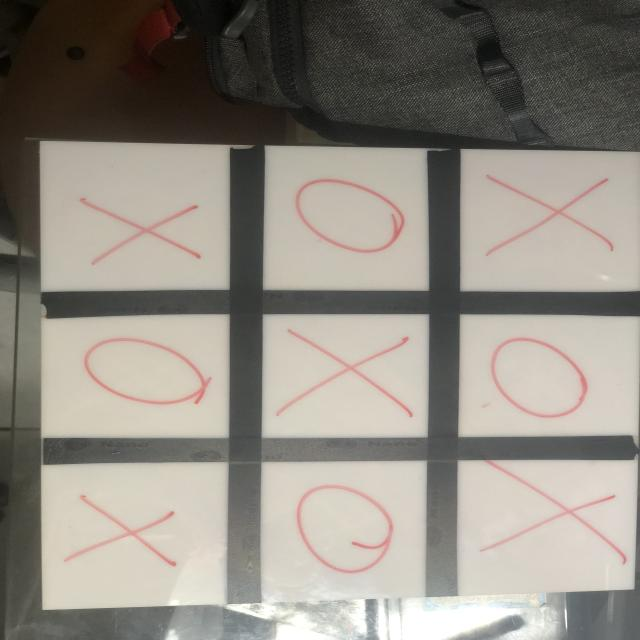o: (296, 481, 399, 579), (287, 174, 407, 255), (81, 334, 209, 407), (493, 333, 591, 420)
table: (33, 139, 640, 619)
x: (486, 456, 626, 570), (285, 327, 418, 418), (487, 174, 616, 259), (65, 491, 191, 573), (79, 190, 204, 271)
